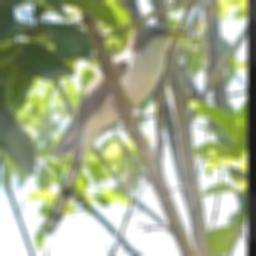Cuckoo: (41, 24, 189, 234)
